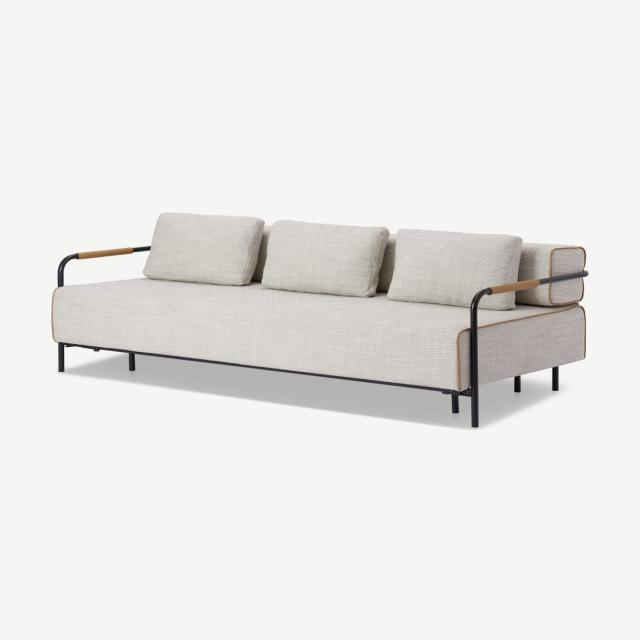back_cushion: (144, 213, 586, 306), (481, 280, 583, 310)
left_arm: (470, 279, 544, 385), (472, 388, 477, 412)
legs: (58, 343, 64, 372), (552, 367, 559, 390), (451, 395, 458, 413), (514, 376, 521, 393), (129, 354, 135, 371)
right_arm: (58, 246, 149, 285)
seat_cushion: (53, 279, 470, 393), (478, 304, 585, 382)
stallion-sofa: (0, 0, 639, 639)
